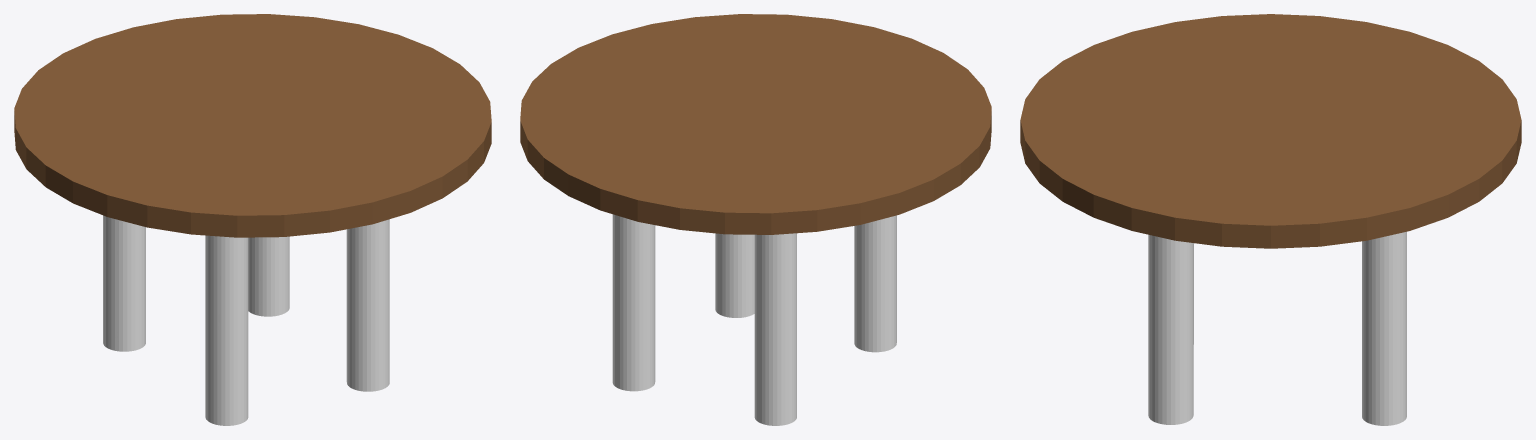
The model's file is mesa.fbx.
3 renders of one model, left to right at view 1: azimuth 30°, elevation 25°; view 2: azimuth 150°, elevation 25°; view 3: azimuth 270°, elevation 25°, orthographic. The views are drawn at different scales.
Parts seen in each view (by area): view 1: Cylinder; view 2: Cylinder; view 3: Cylinder.
Part boxes in pixels (left/top/right/bottom): Cylinder: left=14, top=14, right=491, bottom=425; Cylinder: left=520, top=14, right=991, bottom=425; Cylinder: left=1020, top=14, right=1521, bottom=425.
Bounding box in the file's own units: 220 × 126 × 220.
